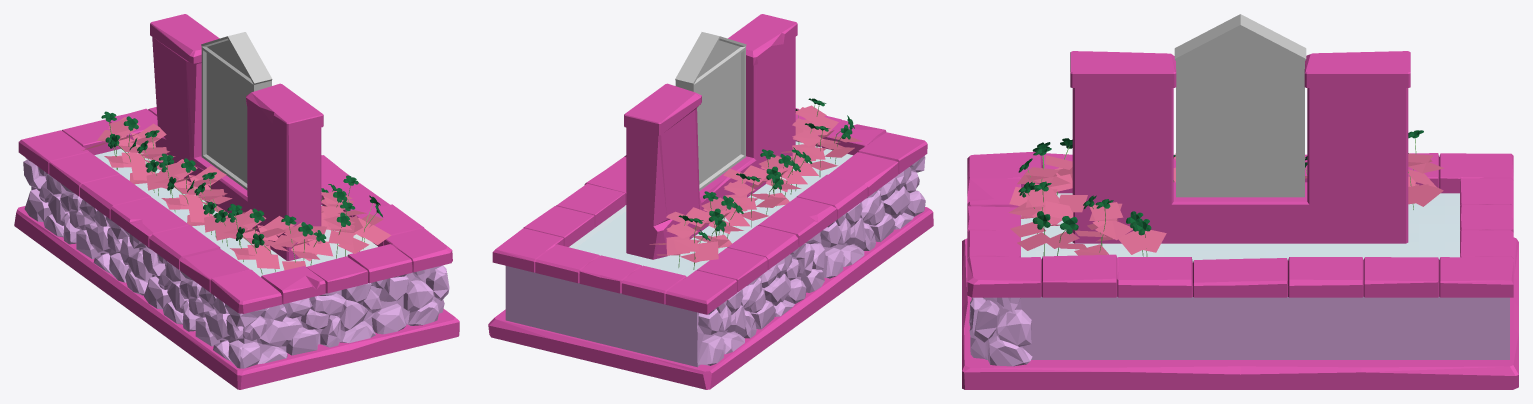
The model's file is Church_Sign.fbx.
3 views of the same model, side by side, from view 1: azimuth 30°, elevation 25°; view 2: azimuth 150°, elevation 25°; view 3: azimuth 270°, elevation 25° (orthographic). The views are drawn at different scales.
Visible parts, largest first — view 1: SM_Church_Sign_02.mo, SM_Church_Sign_02_Flowers.mo; view 2: SM_Church_Sign_02.mo, SM_Church_Sign_02_Flowers.mo; view 3: SM_Church_Sign_02.mo, SM_Church_Sign_02_Flowers.mo.
Boxes of the visible parts, x1,y1,x2,y2 form: SM_Church_Sign_02.mo: (14,14,459,389); SM_Church_Sign_02_Flowers.mo: (83,111,391,274); SM_Church_Sign_02.mo: (488,14,933,389); SM_Church_Sign_02_Flowers.mo: (649,98,862,269); SM_Church_Sign_02.mo: (962,14,1518,389); SM_Church_Sign_02_Flowers.mo: (1008,130,1444,256).
Bounding box in the file's own units: 215 × 228 × 379.
